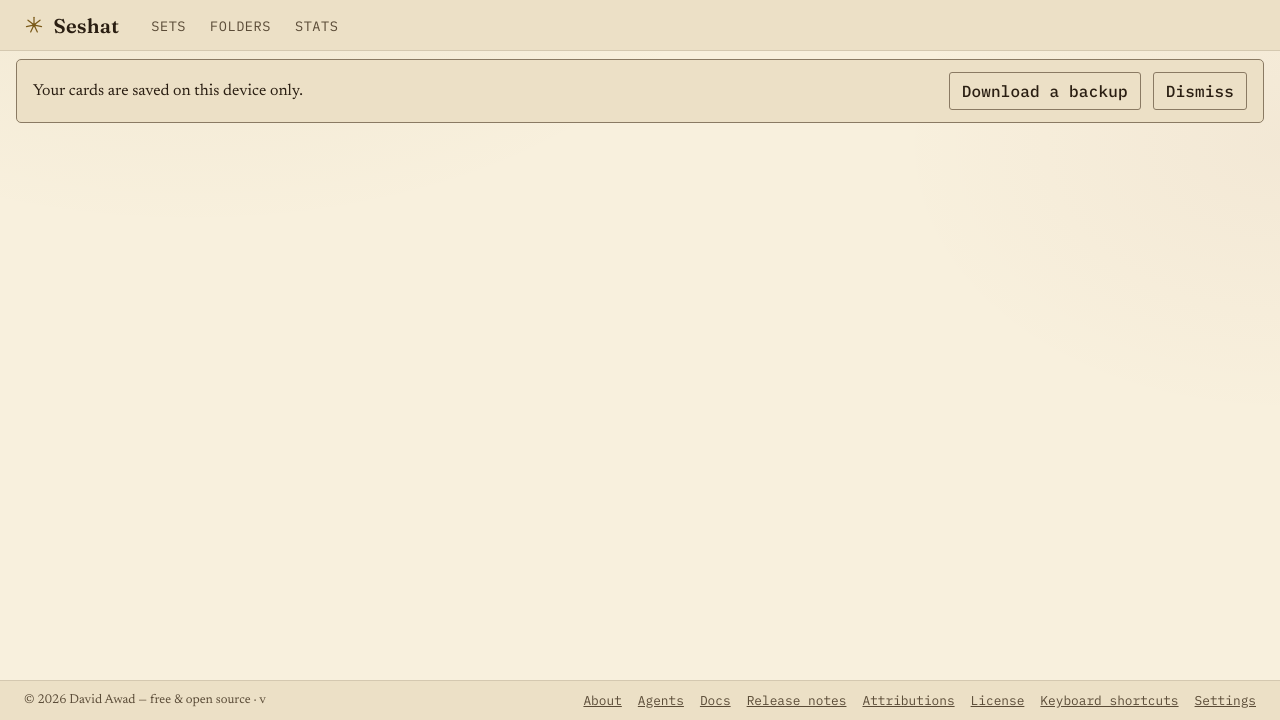
Test: Layout backup nudge › dismissing hides it and keeps it hidden after a reload
Click the button with test id "backup-nudge-dismiss" at (1200, 91), box [1153,72,1247,110]
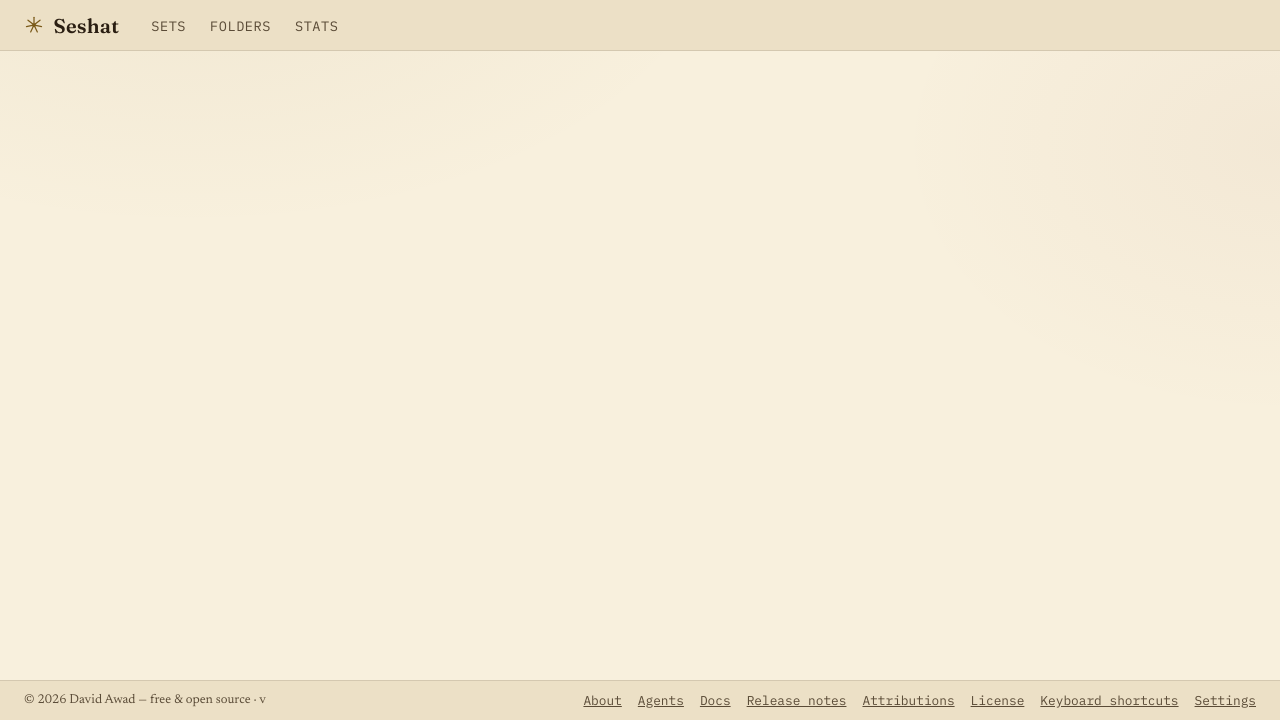
Result: the element with test id "backup-nudge" is gone
